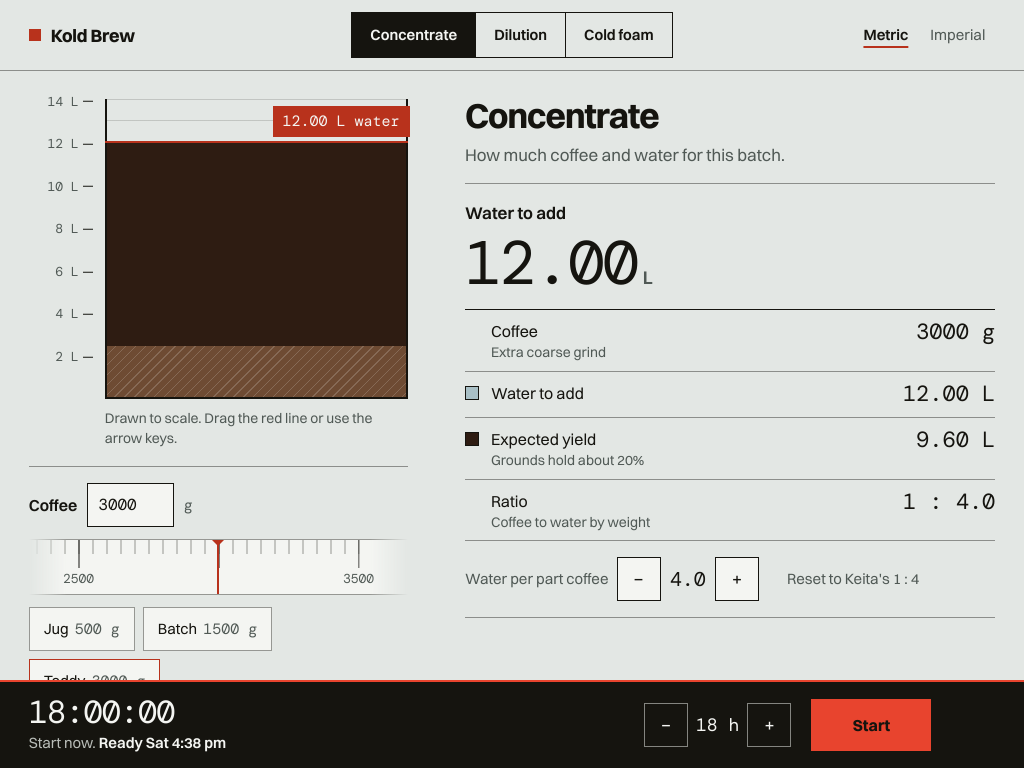
Calculators › ratio stepper persists in the original storage shape
Click the button named "More water parts". click: (737, 580)
box: [715, 558, 759, 602]
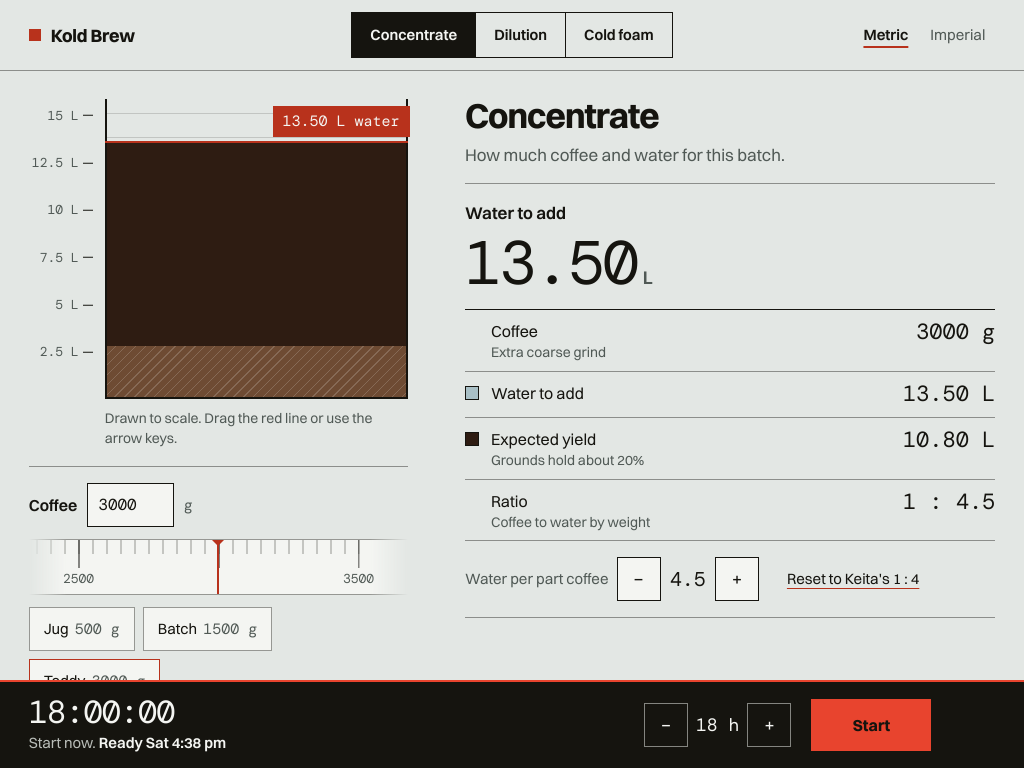
Check: the element with test id "lead-value" reads "13.50 L", box [465, 223, 653, 303]
Click the button "Reset to Keita's 1 : 4". click: (853, 580)
box: [787, 558, 919, 602]
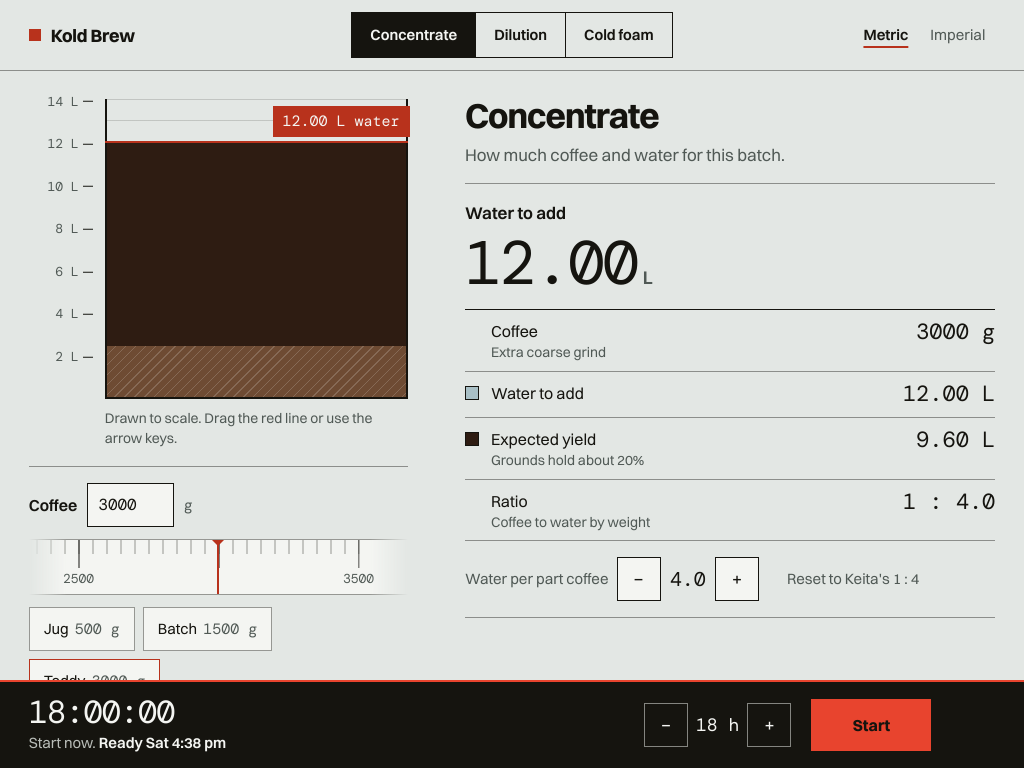
Check: the element with test id "lead-value" reads "12.00 L", box [465, 223, 653, 303]
